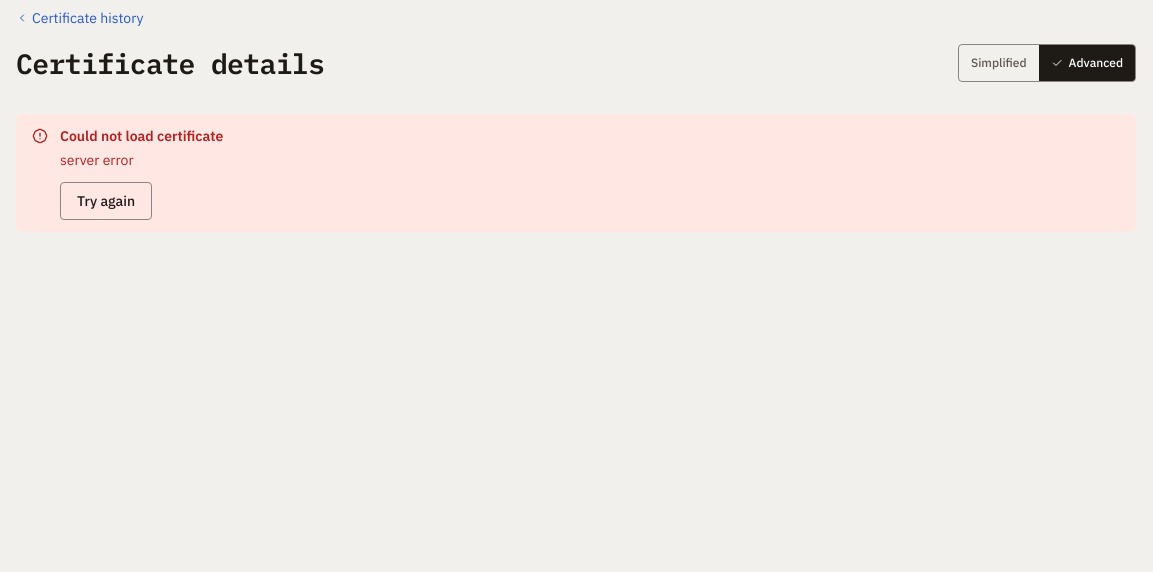
Test: when the certificate fails to load › should ask the server again when Try again is pressed
Click the button "Try again" at (106, 201), box [60,182,152,220]
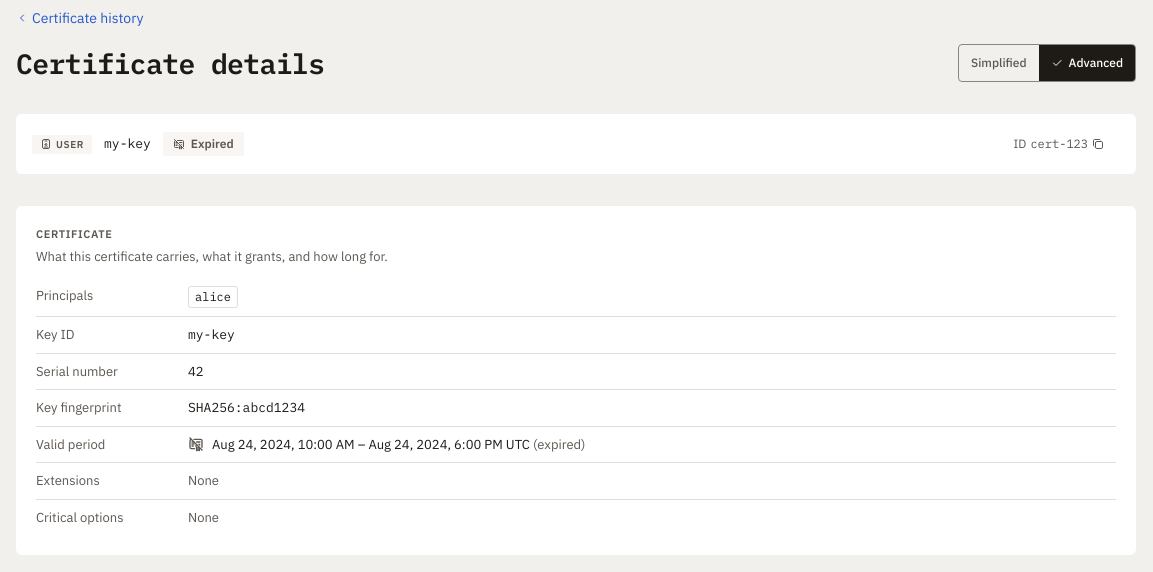
expect the element with test id "cert-details" is shown: met
